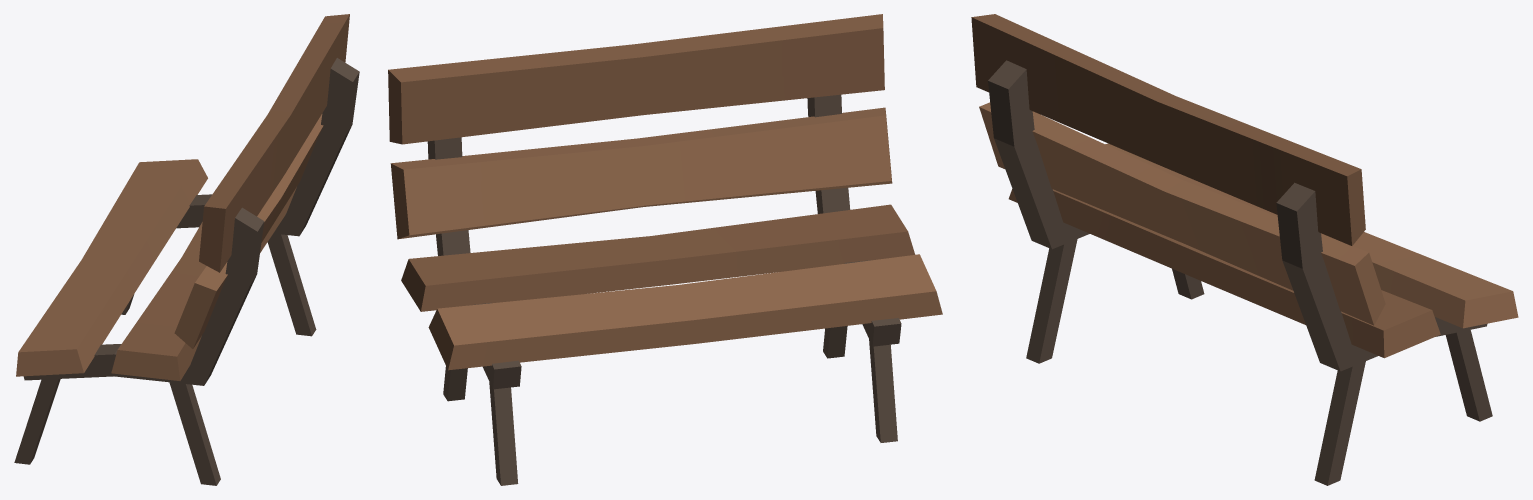
Rendered from bench.glb.
3 renders of one model, left to right at view 1: azimuth 30°, elevation 25°; view 2: azimuth 150°, elevation 25°; view 3: azimuth 270°, elevation 25°, orthographic. The views are drawn at different scales.
Visible parts, largest first — view 1: Benchs; view 2: Benchs; view 3: Benchs.
Boxes of the visible parts, box(x1,y1,x2,y2) form: Benchs: box(14, 14, 359, 485); Benchs: box(388, 14, 942, 485); Benchs: box(971, 14, 1518, 485).
Bounding box in the file's own units: 7.07 × 4.74 × 7.06.
